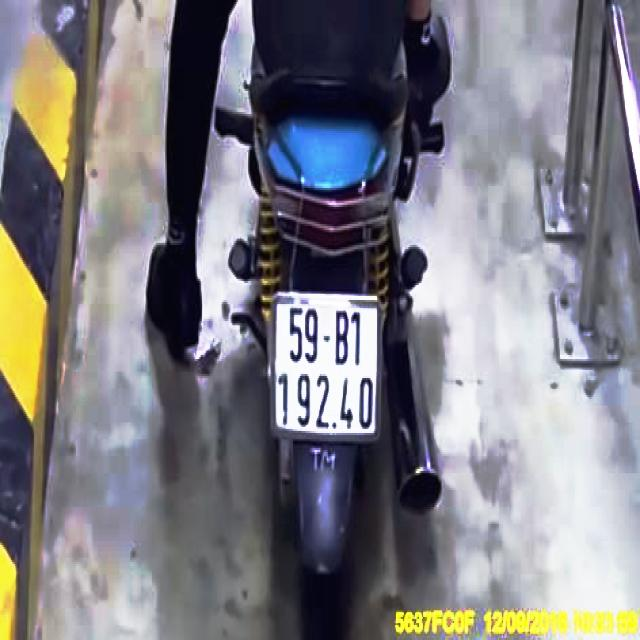license_plate: (268, 292, 383, 439)
